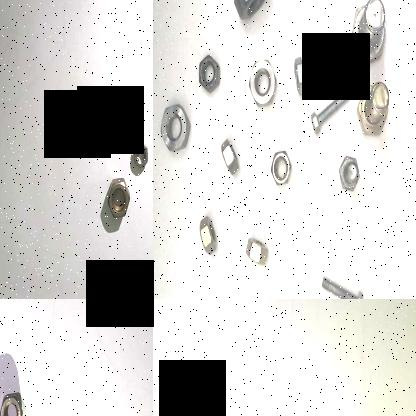Bolts: (348, 0, 394, 69), (356, 69, 390, 146), (308, 87, 354, 143), (292, 43, 336, 98), (319, 267, 369, 299), (336, 145, 362, 195)
NUTS: (160, 100, 198, 156), (244, 52, 280, 110), (217, 124, 243, 186), (225, 0, 275, 32), (194, 206, 222, 260), (239, 227, 273, 271), (194, 50, 222, 99), (268, 145, 294, 195), (105, 180, 131, 224), (130, 137, 152, 172)
